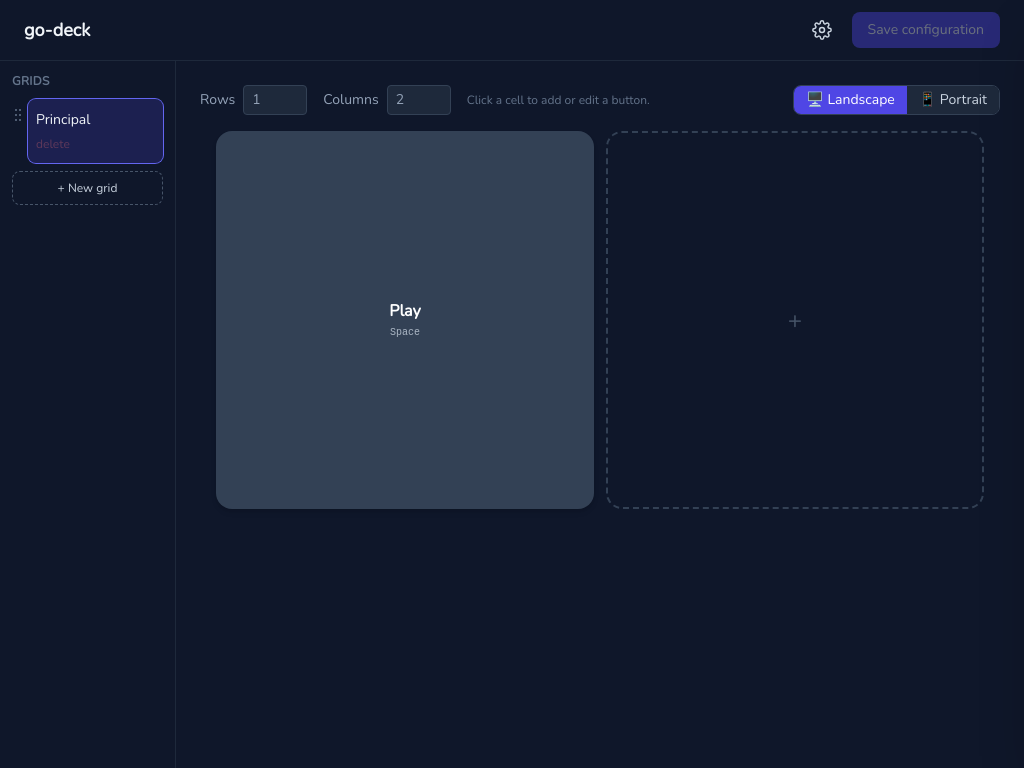
Scenario: DesktopApp — gerência de páginas › adiciona uma nova página e a torna ativa
Check: the field showing "Principal" is shown, box [36, 110, 155, 130]
Step 1. Click the button "+ New grid" → (88, 188), box [12, 171, 163, 205]
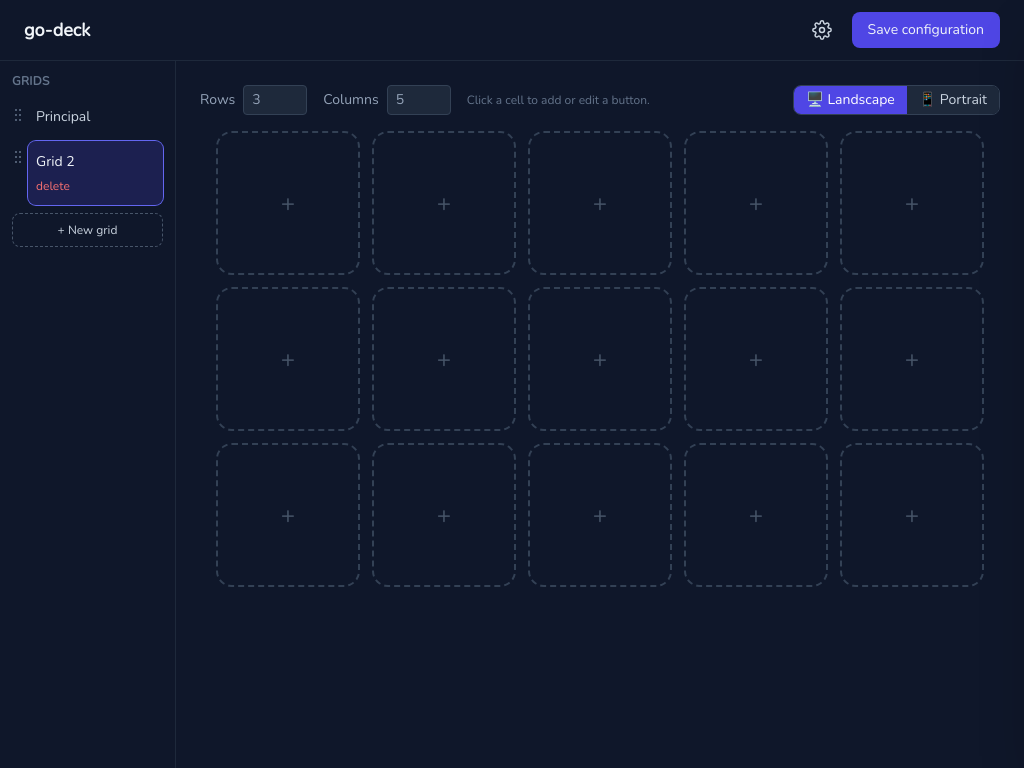
Check: the field showing "Grid 2" is shown, box [36, 152, 155, 172]
